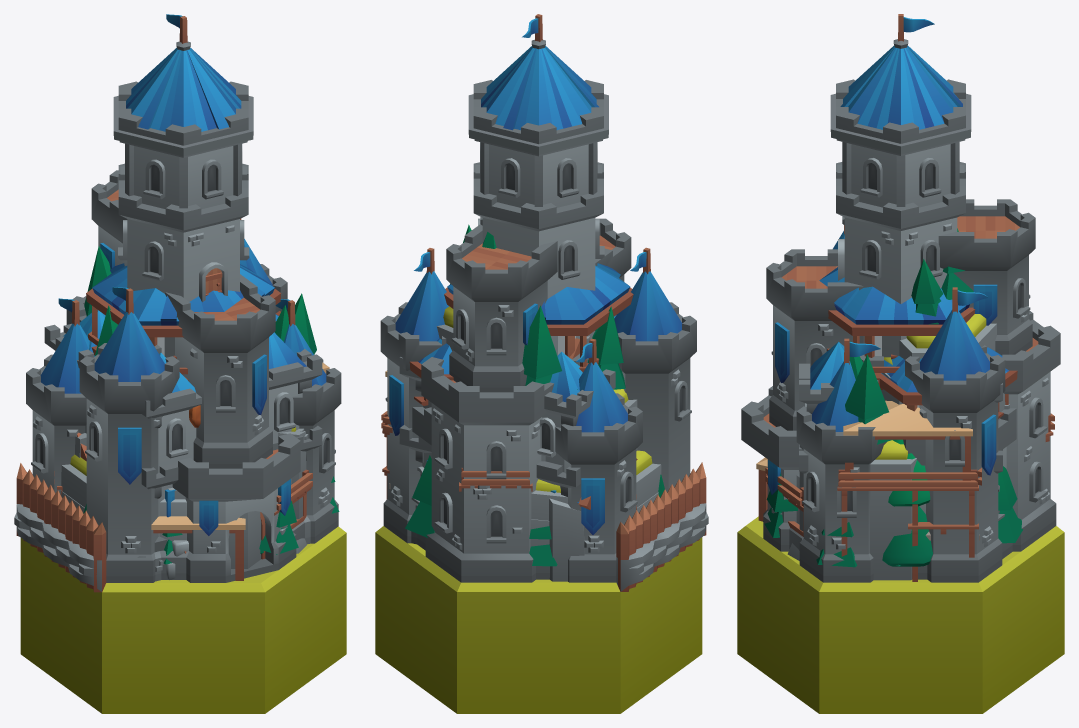
3 views of the same model, side by side, from view 1: azimuth 30°, elevation 25°; view 2: azimuth 150°, elevation 25°; view 3: azimuth 270°, elevation 25° (orthographic).
Parts seen in each view (by area): view 1: building_castle_blue, hex_grass, building_barracks_blue, building_tower_B_top_blue, fence_wood_straight, fence_stone_straight, building_scaffolding, mountain_B_grass_trees, mountain_A_grass_trees, trees_A_large; view 2: building_castle_blue, hex_grass, building_barracks_blue, building_tower_B_top_blue, mountain_A_grass_trees, fence_wood_straight, fence_stone_straight, mountain_B_grass_trees, building_mine_blue, trees_A_large, building_archeryrange_blue, building_scaffolding; view 3: building_castle_blue, hex_grass, building_scaffolding, mountain_B_grass_trees, building_tower_B_top_blue, building_archeryrange_blue, trees_A_large, building_barracks_blue, trees_B_medium, mountain_A_grass_trees.
Part boxes in pixels (left/top/right/bottom): building_castle_blue: left=26, top=14, right=341, bottom=582; hex_grass: left=20, top=526, right=346, bottom=713; building_barracks_blue: left=44, top=310, right=322, bottom=581; building_tower_B_top_blue: left=86, top=262, right=281, bottom=380; fence_wood_straight: left=16, top=463, right=106, bottom=592; fence_stone_straight: left=14, top=504, right=101, bottom=591; building_scaffolding: left=54, top=362, right=329, bottom=580; mountain_B_grass_trees: left=61, top=305, right=288, bottom=568; mountain_A_grass_trees: left=60, top=246, right=316, bottom=568; trees_A_large: left=83, top=476, right=339, bottom=564; building_castle_blue: left=380, top=14, right=696, bottom=582; hex_grass: left=375, top=526, right=702, bottom=713; building_barracks_blue: left=399, top=315, right=616, bottom=544; building_tower_B_top_blue: left=444, top=263, right=633, bottom=372; mountain_A_grass_trees: left=450, top=283, right=658, bottom=546; fence_wood_straight: left=616, top=462, right=706, bottom=591; fence_stone_straight: left=616, top=503, right=708, bottom=591; mountain_B_grass_trees: left=423, top=224, right=661, bottom=520; building_mine_blue: left=549, top=498, right=584, bottom=581; trees_A_large: left=405, top=455, right=664, bottom=566; building_archeryrange_blue: left=409, top=338, right=637, bottom=509; building_scaffolding: left=381, top=370, right=636, bottom=509; building_castle_blue: left=741, top=14, right=1060, bottom=582; hex_grass: left=737, top=516, right=1064, bottom=713; building_scaffolding: left=756, top=400, right=1054, bottom=581; mountain_B_grass_trees: left=849, top=228, right=1005, bottom=580; building_tower_B_top_blue: left=819, top=267, right=975, bottom=389; building_archeryrange_blue: left=880, top=347, right=1017, bottom=520; trees_A_large: left=763, top=466, right=1023, bottom=567; building_barracks_blue: left=799, top=341, right=1002, bottom=539; trees_B_medium: left=882, top=439, right=932, bottom=566; mountain_A_grass_trees: left=799, top=354, right=892, bottom=531.
Size of the model in its own units: 2.1 by 4.98 by 2.31.
1 material, 1 textured.
